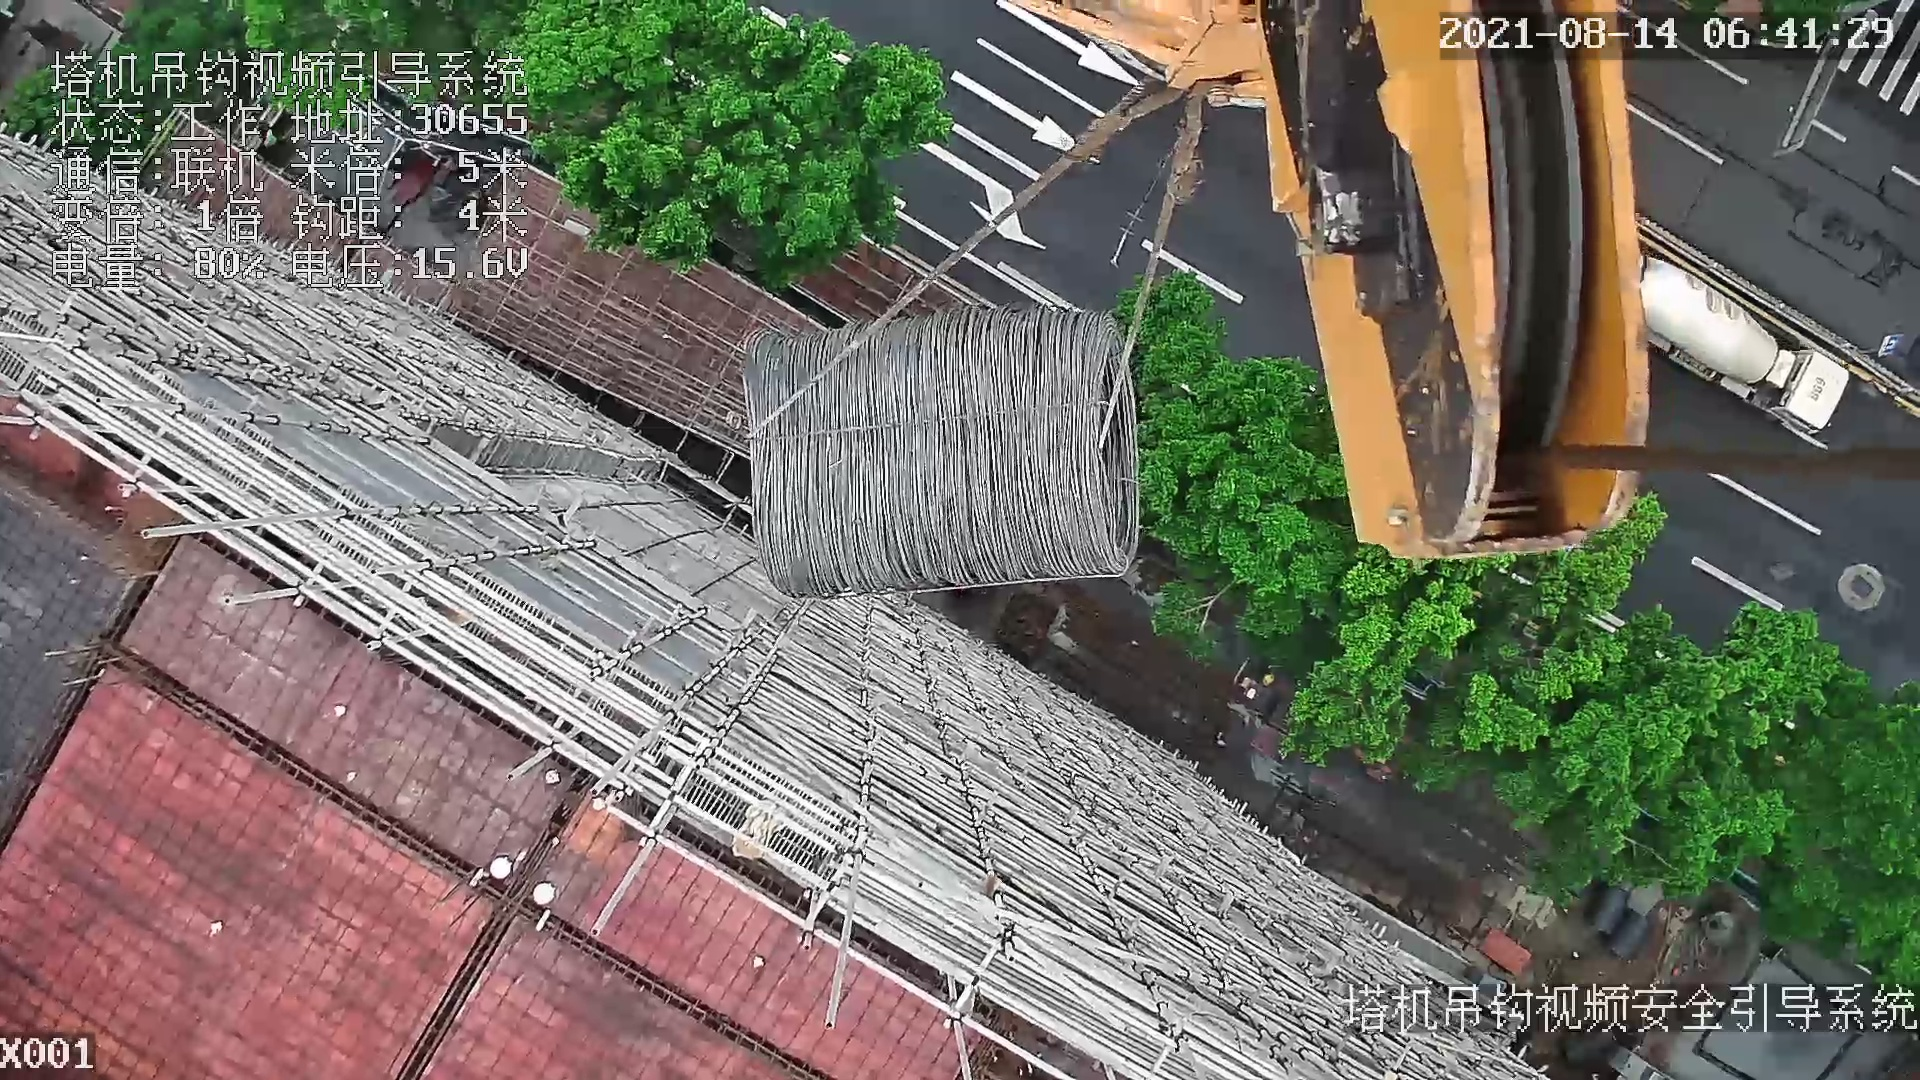hook: (1040, 1, 1642, 563)
